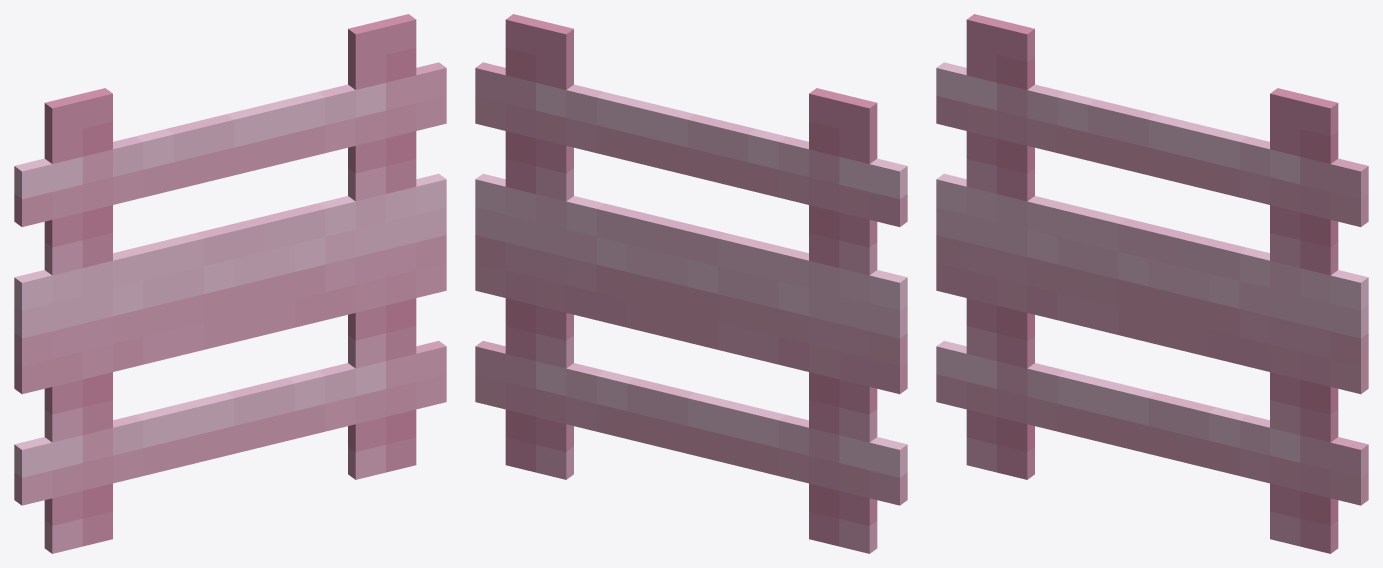
Rendered from Cherry Ladder.glb.
3 renders of one model, left to right at view 1: azimuth 30°, elevation 25°; view 2: azimuth 150°, elevation 25°; view 3: azimuth 330°, elevation 25°, orthographic.
Parts seen in each view (by area): view 1: generated(Clone); view 2: generated(Clone); view 3: generated(Clone).
Boxes of the visible parts, <box> form: generated(Clone): <box>14,14,446,553</box>; generated(Clone): <box>475,14,907,553</box>; generated(Clone): <box>936,14,1368,553</box>.
Size of the model in its own units: 7.98 by 8 by 0.25.
1 material, 1 textured.
